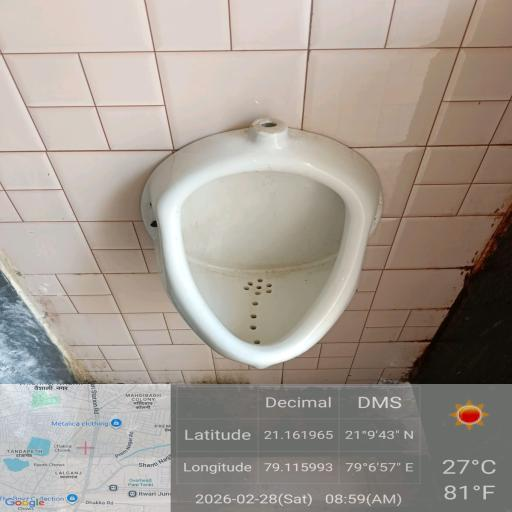clean_floor: (0, 8, 172, 508), (176, 395, 512, 512)
clean_urinal: (135, 83, 404, 368)
